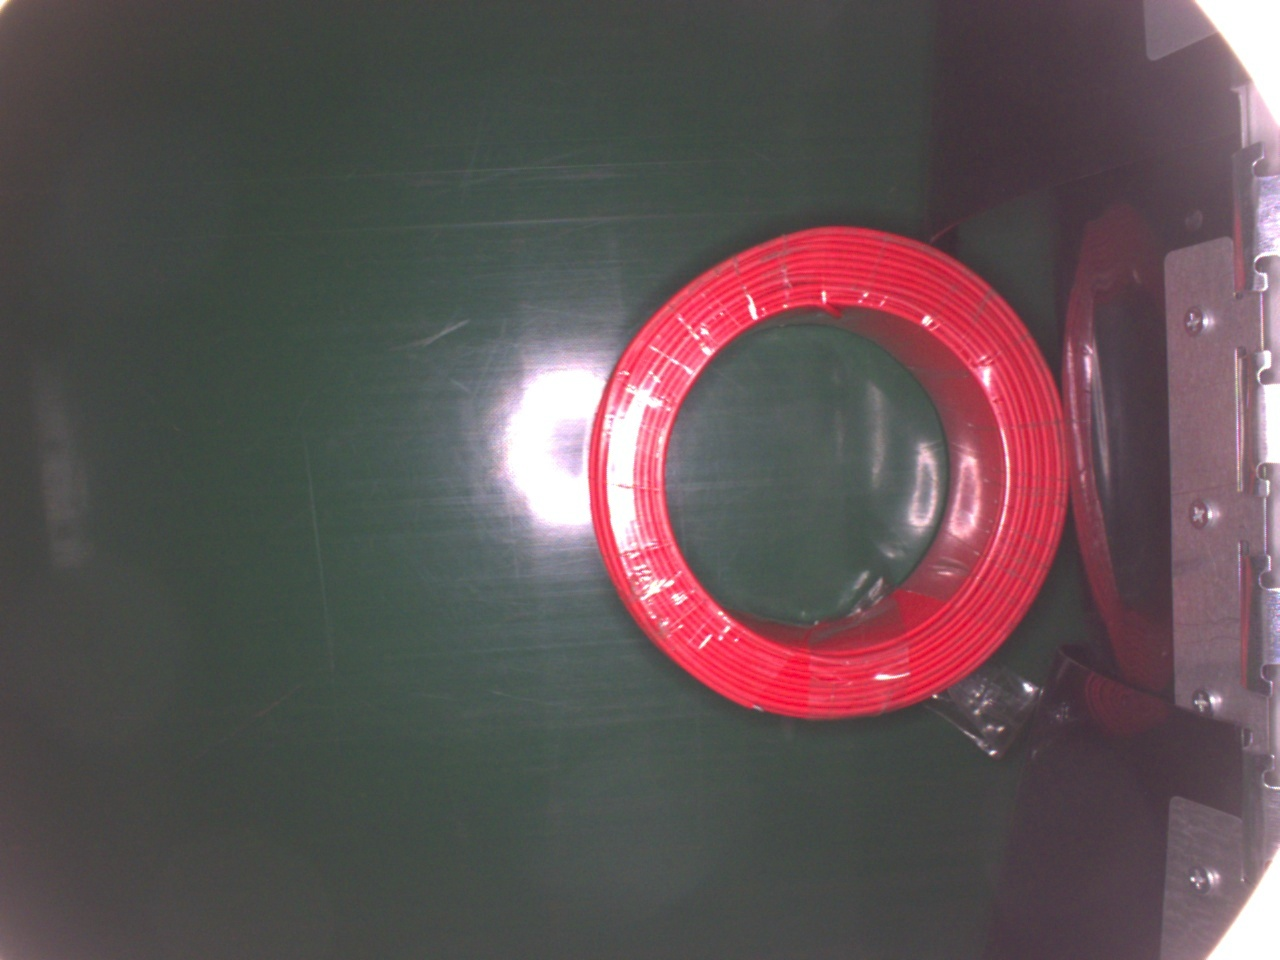red: (588, 222, 1074, 722)
